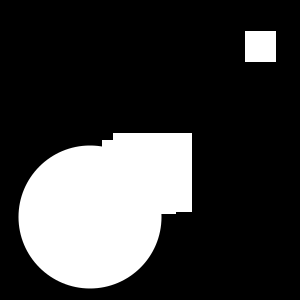circle: (113, 133, 192, 212), (102, 140, 176, 214), (245, 31, 276, 62)
rectangle: (18, 146, 162, 288)
